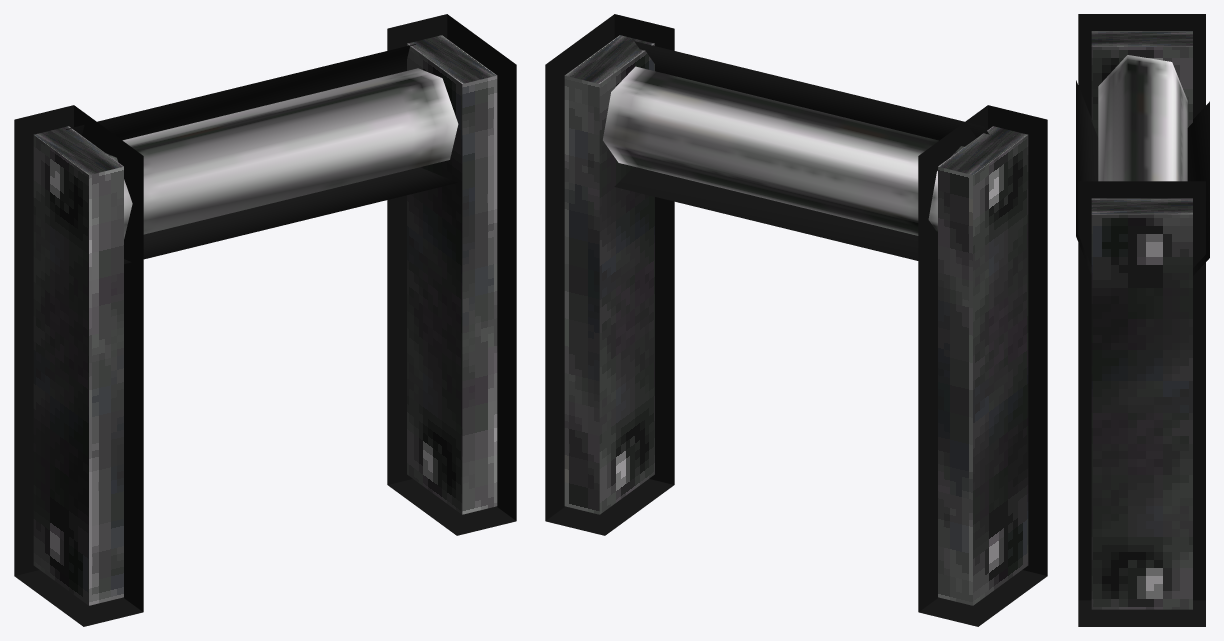
File: INST_SWORDLIGHT_SWITCH_PICKUP.obj
The picture shows the model from 3 angles, left to right: view 1: azimuth 30°, elevation 25°; view 2: azimuth 150°, elevation 25°; view 3: azimuth 270°, elevation 25°; orthographic projection. The views are drawn at different scales.
Parts seen in each view (by area): view 1: xSwitch_Lod1_01; view 2: xSwitch_Lod1_01; view 3: xSwitch_Lod1_01.
Boxes of the visible parts, bbox=[...] form: xSwitch_Lod1_01: bbox=[14, 14, 516, 626]; xSwitch_Lod1_01: bbox=[545, 14, 1047, 626]; xSwitch_Lod1_01: bbox=[1076, 14, 1209, 626].
Bounding box in the file's own units: 22.92 × 23.09 × 6.68.
